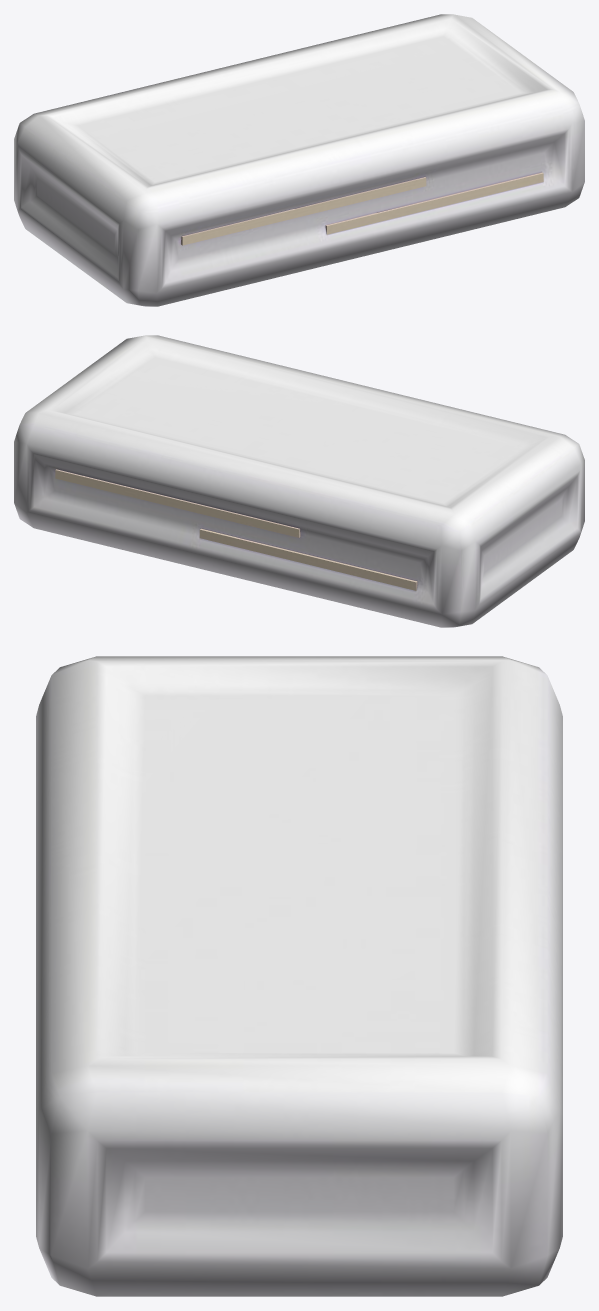
The model's file is kalas2.glb.
3 views of the same model, one above another, from view 1: azimuth 30°, elevation 25°; view 2: azimuth 150°, elevation 25°; view 3: azimuth 270°, elevation 25° (orthographic). The views are drawn at different scales.
Visible parts, largest first — view 1: kalas2; view 2: kalas2; view 3: kalas2.
Part boxes in pixels (box(x1,y1,x2,y2)): kalas2: box(14, 14, 584, 306); kalas2: box(14, 335, 584, 627); kalas2: box(36, 656, 562, 1296).
Size of the model in its own units: 3.07 by 0.7402 by 1.52.
Materials: 1 (1 with a texture image).
